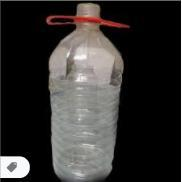plastic: (47, 3, 130, 182)
